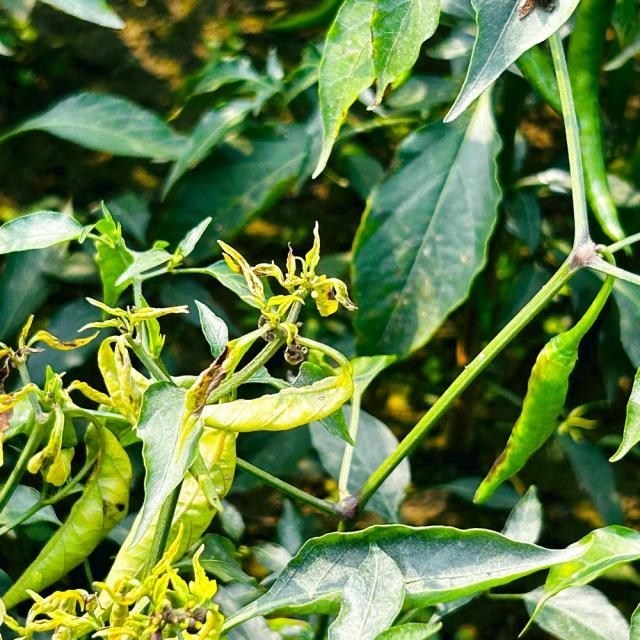Chilli_Leaf_Curl: (1, 1, 638, 638), (1, 204, 360, 638), (219, 518, 639, 638), (347, 82, 505, 362), (471, 268, 615, 506), (308, 0, 441, 179), (214, 219, 358, 365), (442, 0, 580, 124), (1, 90, 192, 163), (200, 368, 354, 433)
